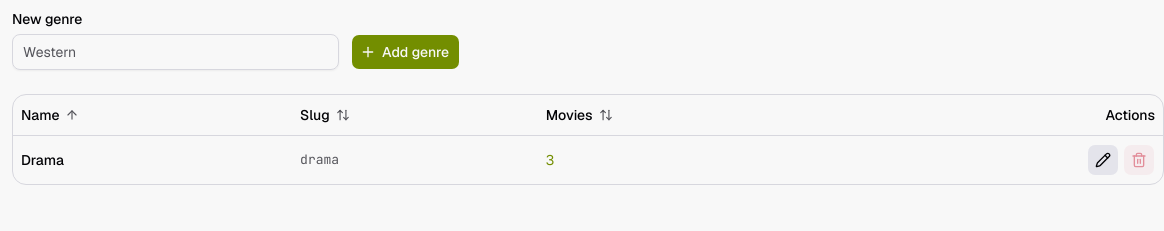
Test: GenresView › shows a duplicate as a field error on the inline form
Step 1. Type "Drama" into the field labelled "New genre" → (176, 52), box x1=12 y1=34 x2=339 y2=70
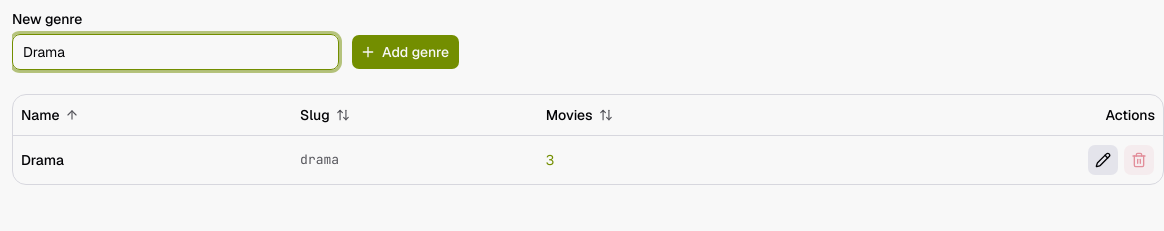
Step 2. Click the button "Add genre" → (406, 52), box x1=351 y1=34 x2=460 y2=70
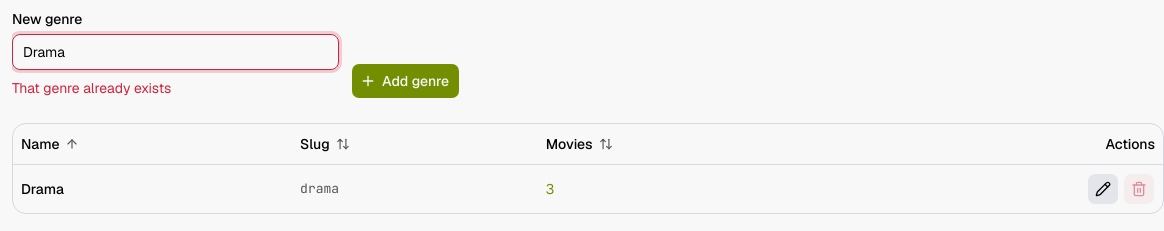
expect the text "That genre already exists" is shown: met, box x1=12 y1=79 x2=171 y2=97
